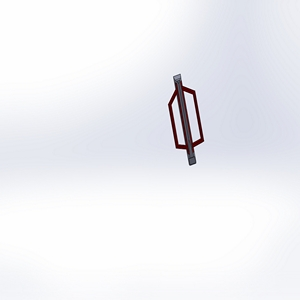submarine: (150, 66, 231, 186)
